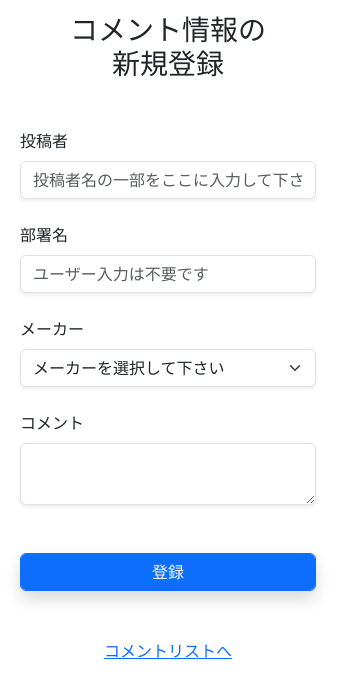
Test case: CommentsNewView › 投稿者と部署名の連動 › 投稿者の候補がある場合 › 投稿者名の一部を入力すると候補が表示され、投稿者を選択後に部署名が表示されること
The image size is (337, 676).
Type "岩崎" into the field with id "commenter".
click(168, 180); type("岩崎")  # box [20,161,316,199]
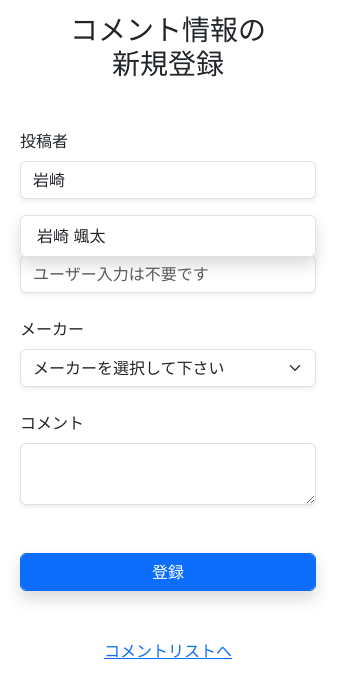
Expected: the list item "岩崎 颯太" is shown
Press the mouse on the list item "岩崎 颯太" at x=168, y=236, box [20,215,316,257]
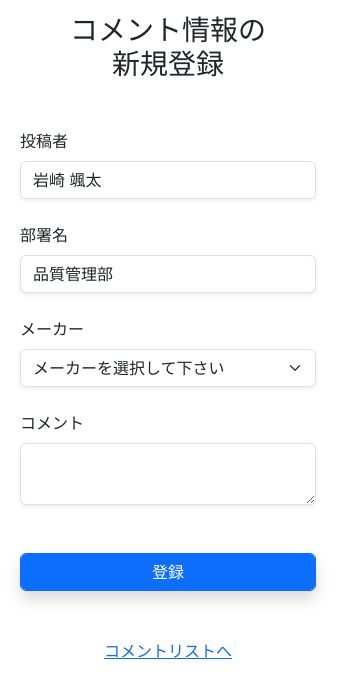
Expected: the field with id "department" holds "品質管理部", [20,255,316,293]
